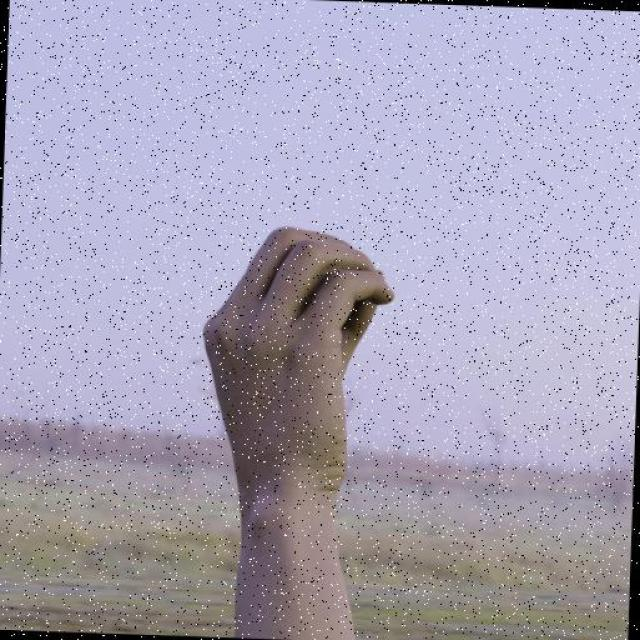O: (170, 207, 414, 542)
